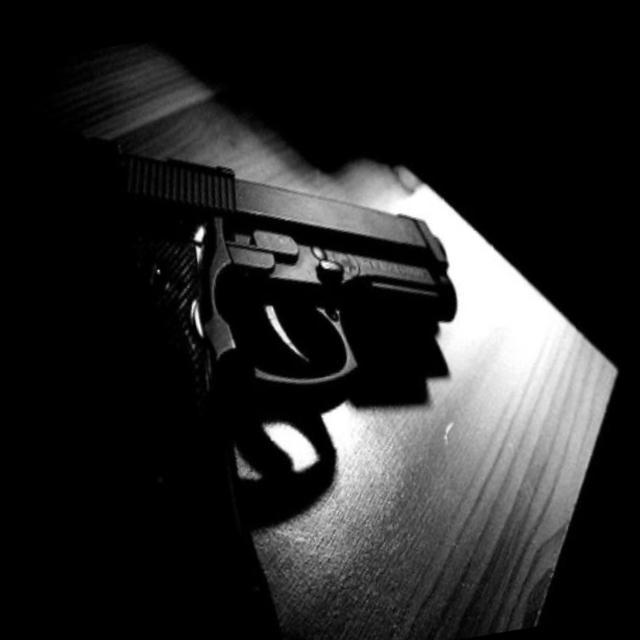weapon: (73, 76, 490, 454)
